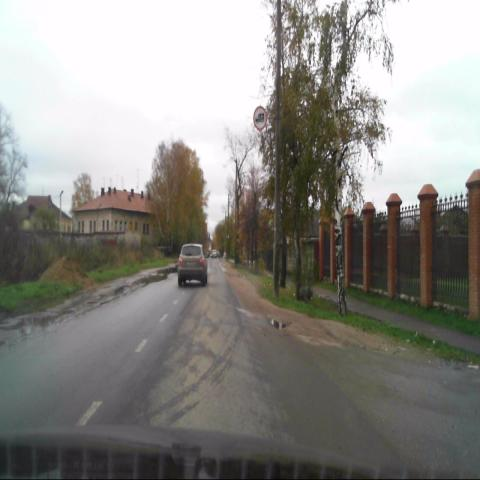3_4: (253, 106, 267, 131)
